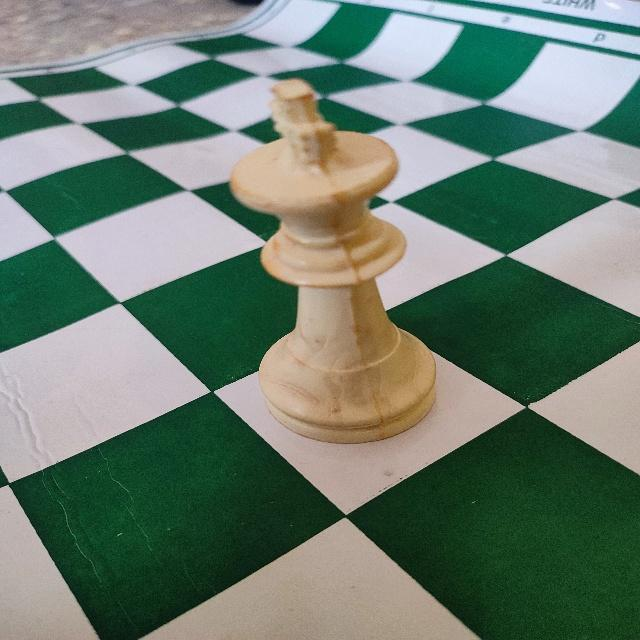King: (222, 75, 440, 449)
